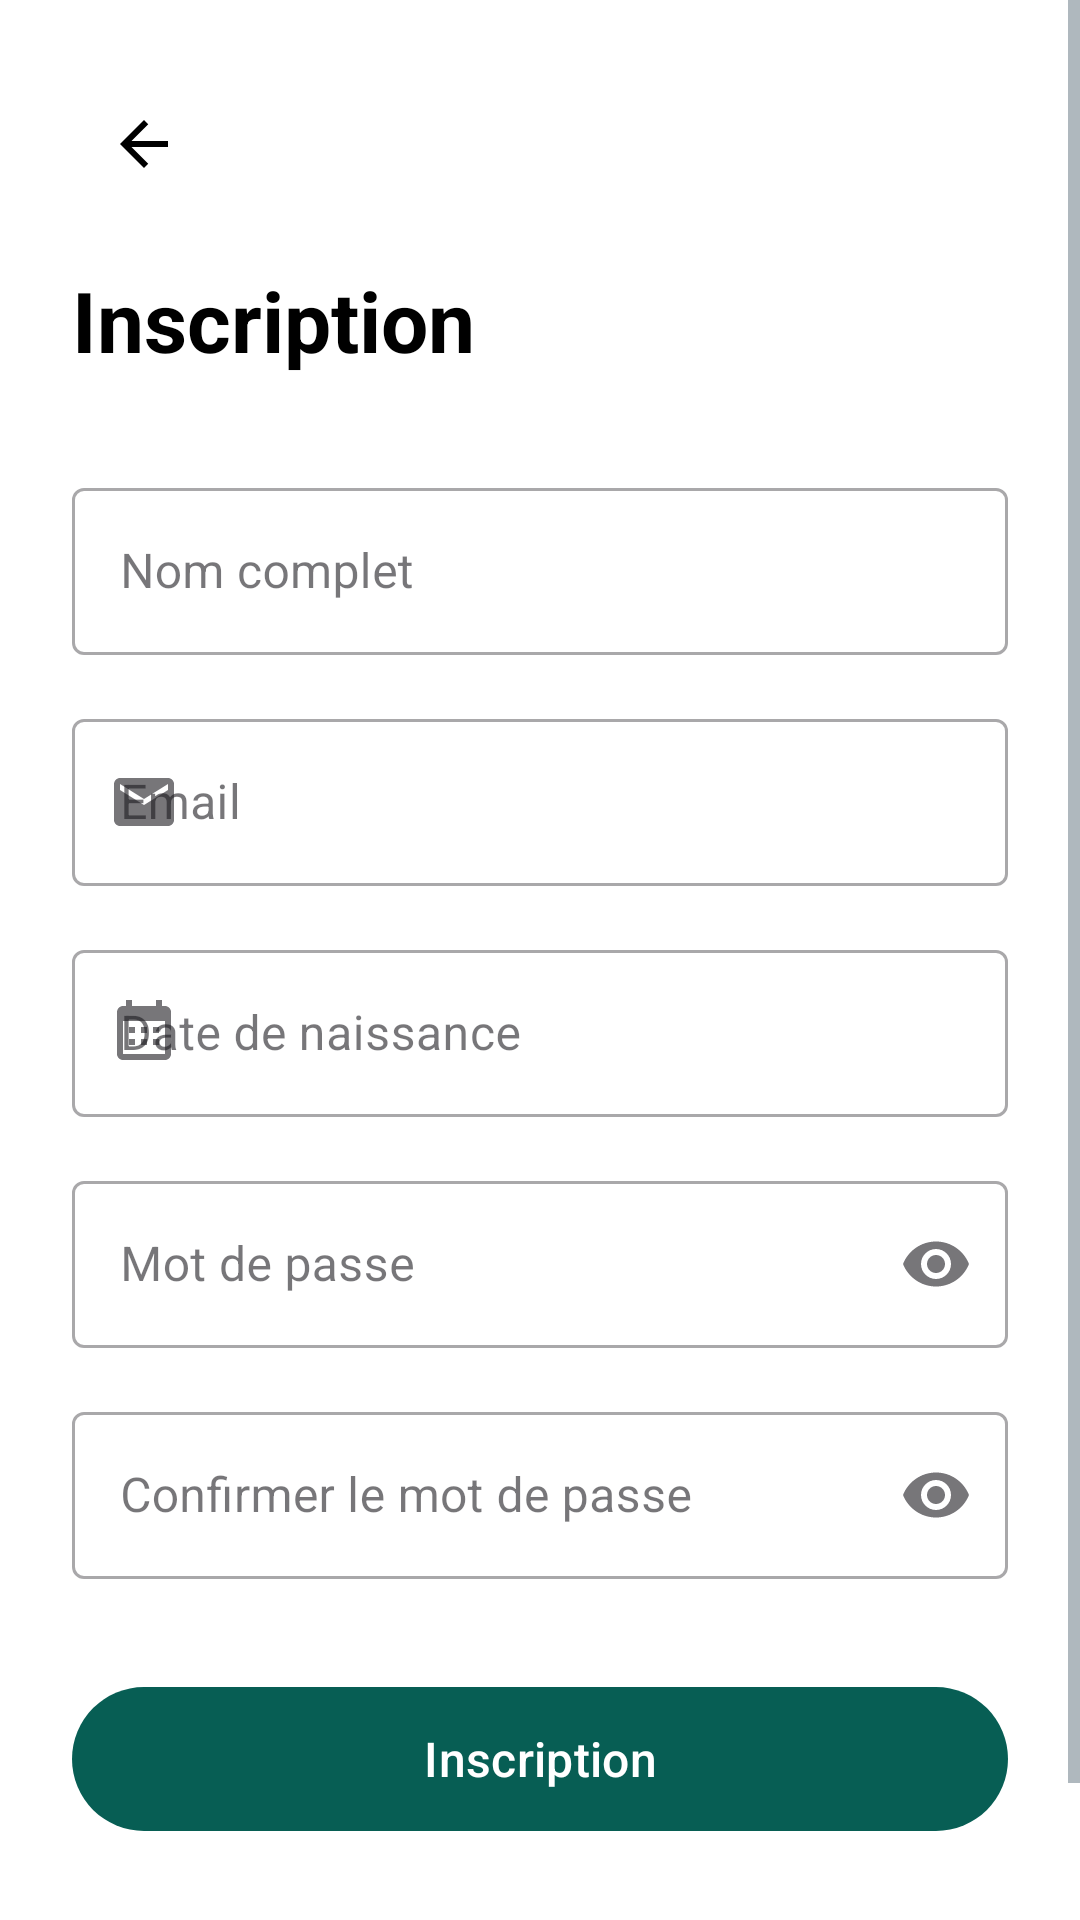

Named icons in this screenshot (1080px×1920px) and their centers, point (x, y):
Retour à la connexion: point (144, 144)
